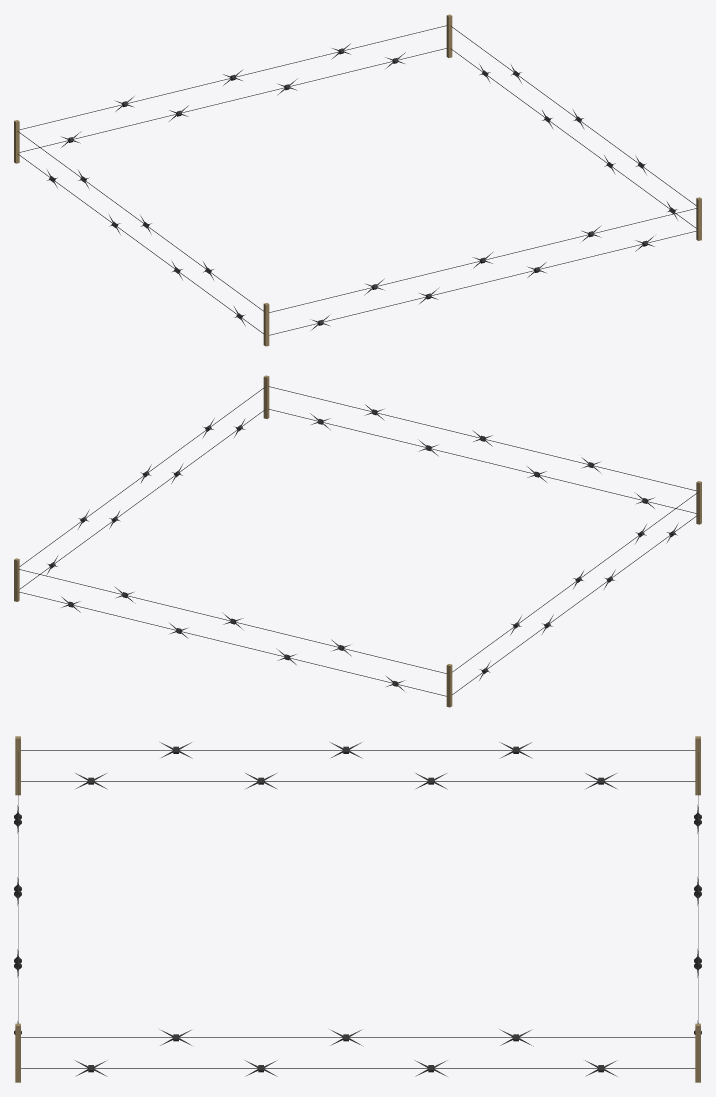
The model's file is barbedwire.fbx.
3 renders of one model, top to bottom at view 1: azimuth 30°, elevation 25°; view 2: azimuth 150°, elevation 25°; view 3: azimuth 270°, elevation 25°, orthographic. The views are drawn at different scales.
Parts seen in each view (by area): view 1: pCone29; view 2: pCone29; view 3: pCone29.
Part boxes in pixels (left/top/right/bottom): pCone29: left=14, top=14, right=701, bottom=346; pCone29: left=14, top=375, right=701, bottom=707; pCone29: left=14, top=736, right=701, bottom=1082.
Bounding box in the file's own units: 121 × 11 × 121.
